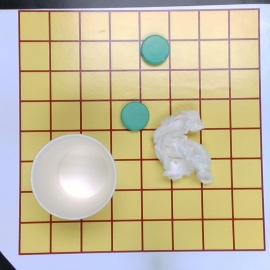cup: (30, 133, 117, 221)
green: (119, 102, 150, 132), (141, 34, 169, 64)
